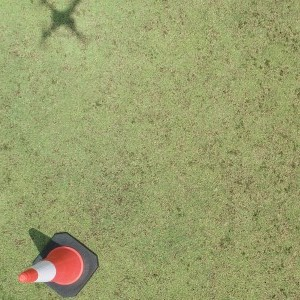traffic cone: (19, 232, 98, 296)
